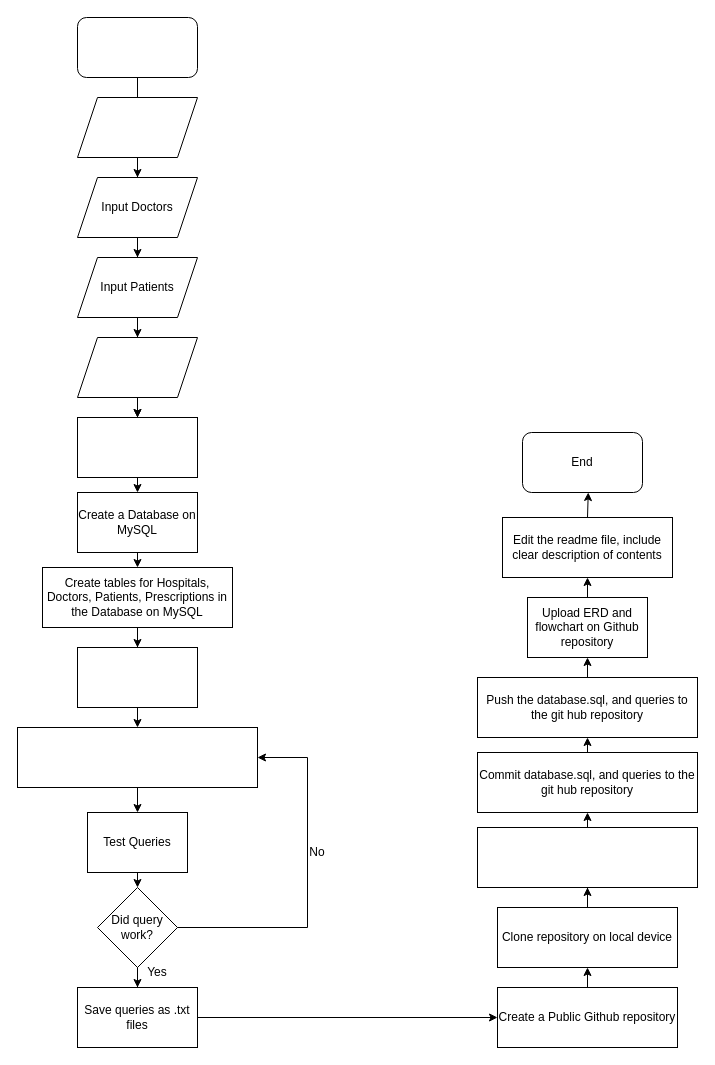
Some shapes in this 715 by 1065 pixel diagram are drawn without their labels. The shapes that lost their labels are listed below. From the top down, each one's centre as x and y in pixels, then its label:
point (137, 47): Begin
point (137, 127): Input Hospitals
point (137, 367): Input Prescriptions
point (137, 447): Create an Entity Relationship Diagram (ERD)
point (137, 677): Save the database as .sql using mysqldump
point (137, 757): Create / modify SQL Queries for data retrieval and manipulation
point (587, 857): Add database.sql, and queries to the git hub repository
